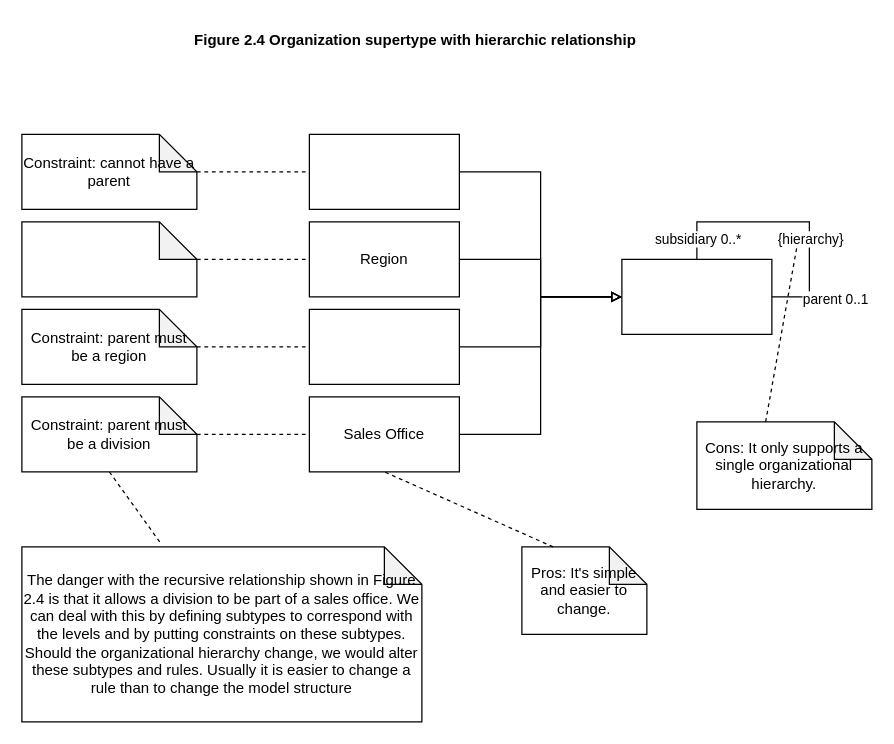
This 894x744 diagram has some shape labels left out. Here are the shapes that lost their labels. From the top down, the centre of each, then its label:
At point (383, 171): "Operating Unit".
At point (109, 259): "Constraint: parent must be an operating unit".
At point (696, 296): "Organization".
At point (383, 346): "Division".
